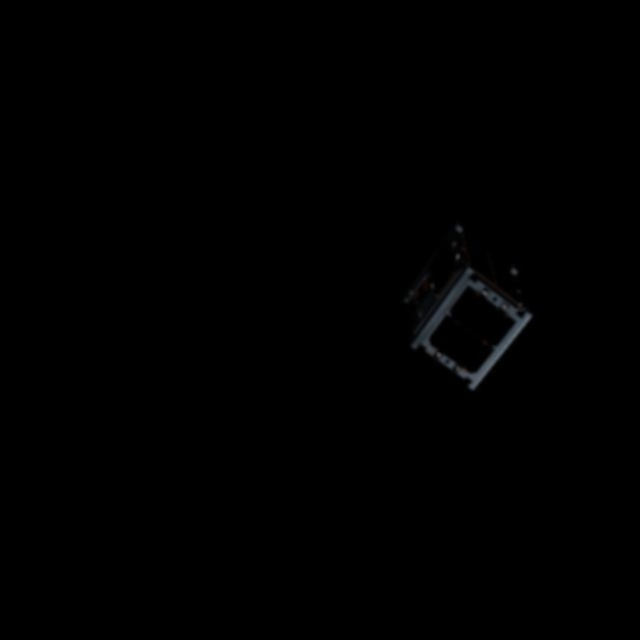medium_debris: (395, 219, 542, 392)
